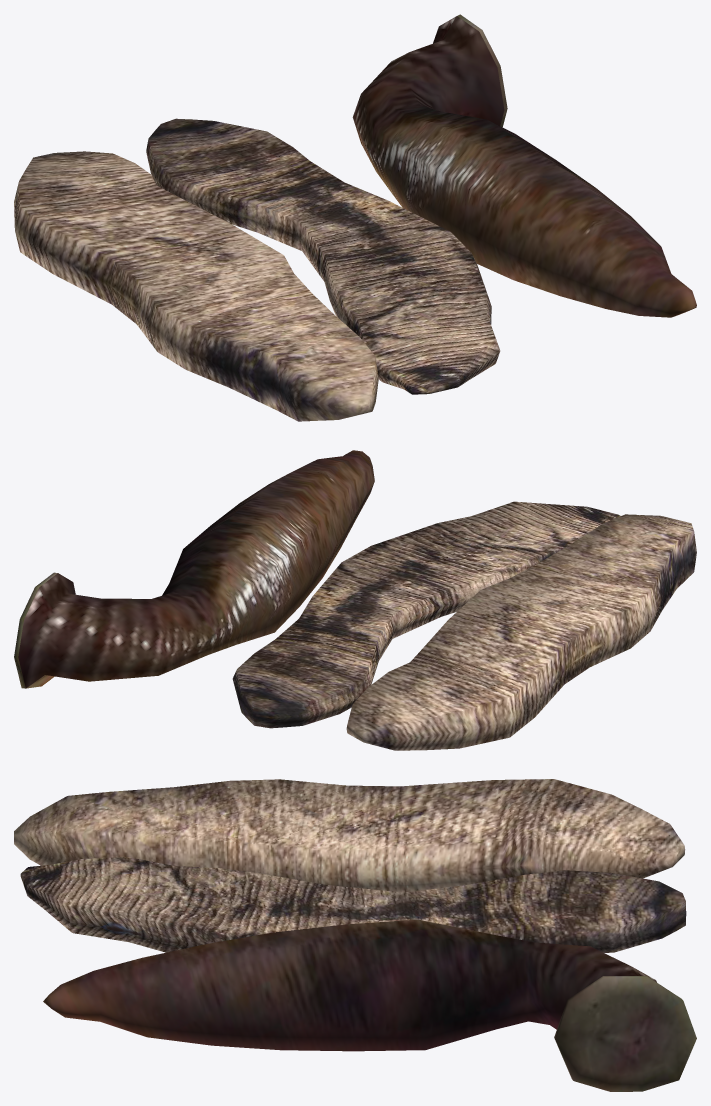
Rendered from shuizhi.FBX.
3 renders of one model, top to bottom at view 1: azimuth 30°, elevation 25°; view 2: azimuth 150°, elevation 25°; view 3: azimuth 270°, elevation 25°, orthographic. The views are drawn at different scales.
Parts seen in each view (by area): view 1: Box002, Cylinder001, Box003; view 2: Box002, Cylinder001, Box003; view 3: Cylinder001, Box002, Box003.
Part boxes in pixels (x1,y1,x2,y2): Box002: [14, 151, 378, 421]; Cylinder001: [352, 14, 696, 317]; Box003: [146, 118, 500, 394]; Box002: [346, 514, 696, 750]; Cylinder001: [14, 450, 374, 688]; Box003: [232, 501, 620, 728]; Cylinder001: [43, 919, 696, 1091]; Box002: [14, 779, 685, 892]; Box003: [20, 857, 686, 952].
Size of the model in its own units: 38.6 by 8.44 by 45.87.
Materials: 1 (1 with a texture image).
